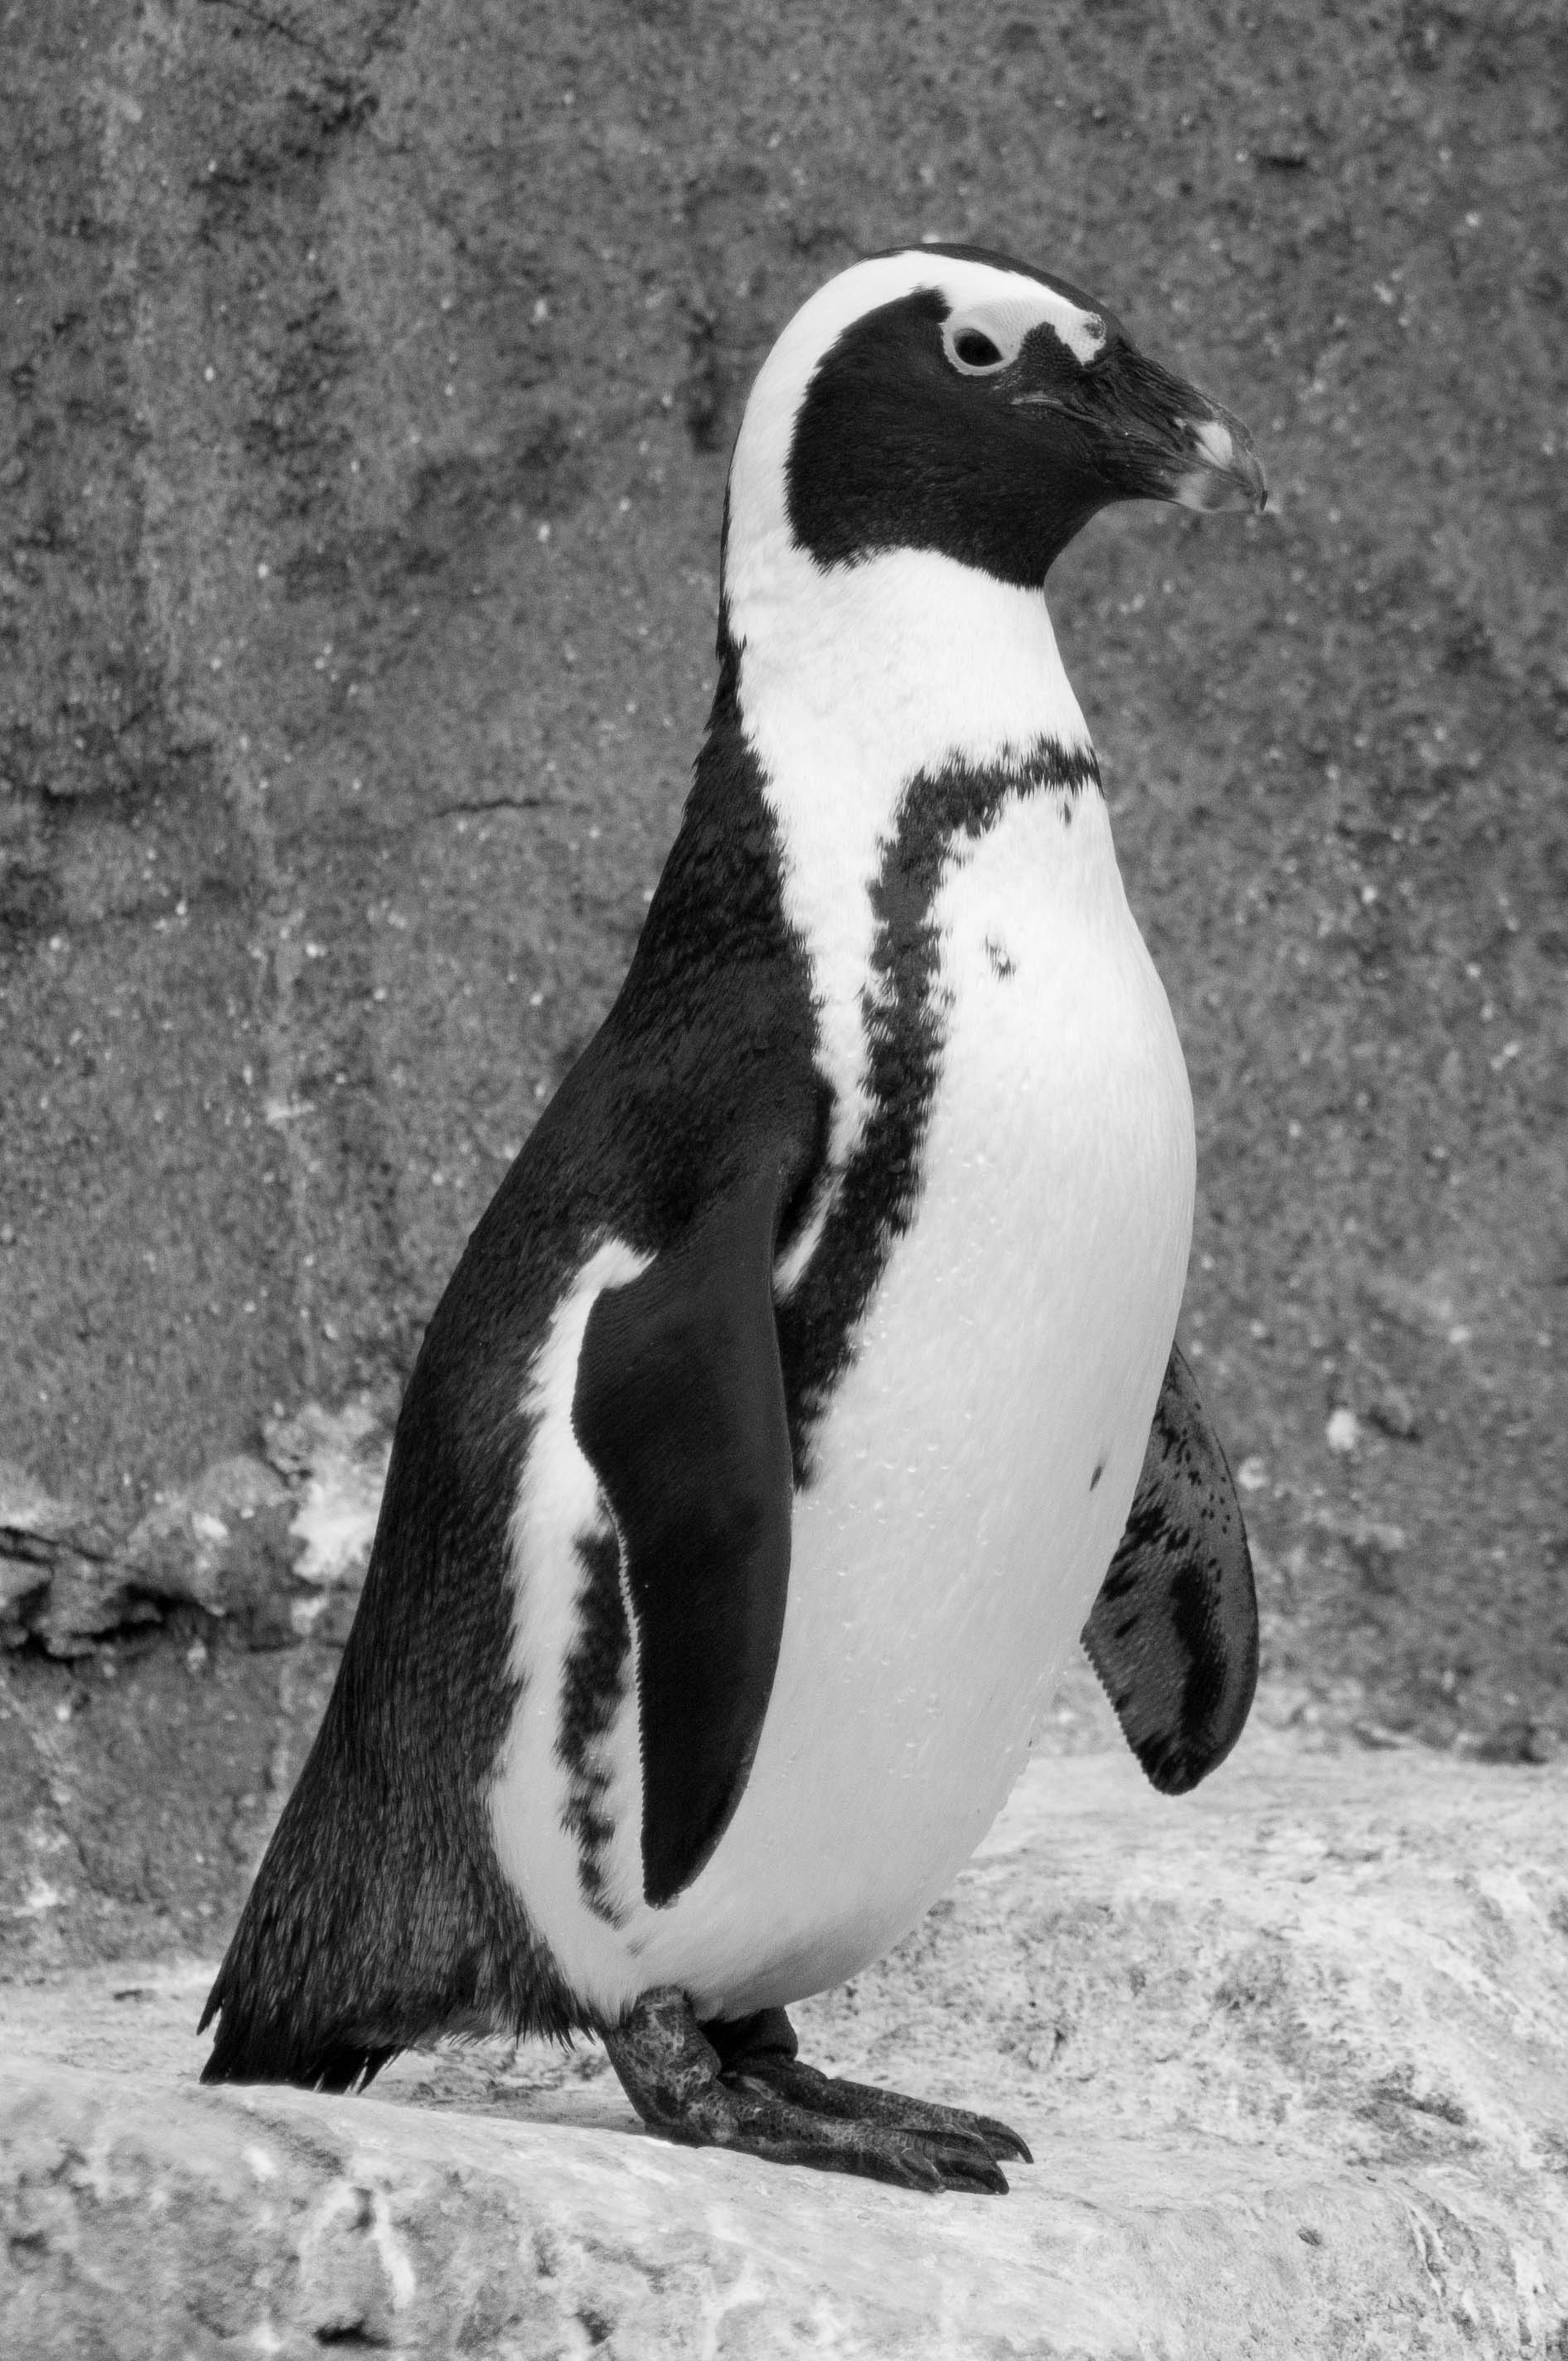penguin: (306, 233, 1288, 2191)
